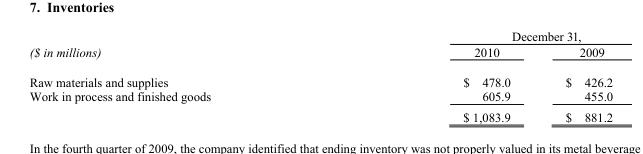table: (28, 28, 612, 123)
table column: (28, 28, 336, 123), (336, 28, 537, 123), (537, 28, 612, 123)
table column header: (28, 28, 612, 66)
table row: (28, 43, 612, 66), (28, 66, 612, 88), (28, 88, 612, 106), (28, 106, 612, 123), (28, 28, 612, 43)
table spanning cell: (28, 28, 336, 66), (336, 28, 612, 43)
